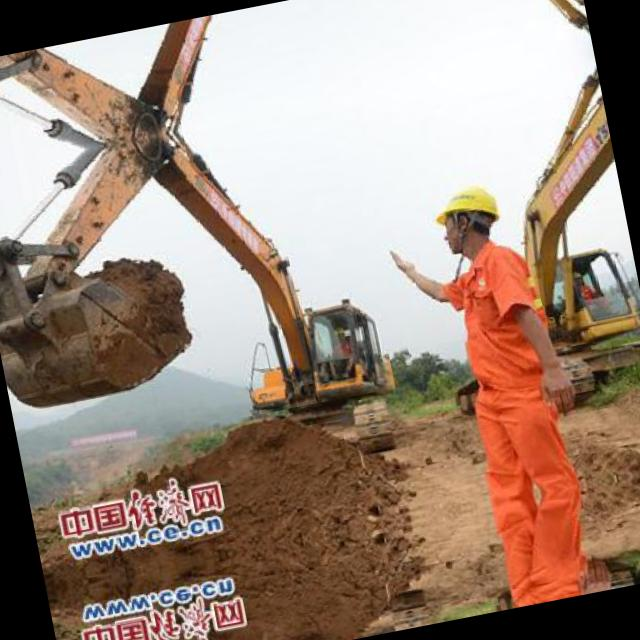helmet: (423, 166, 515, 265)
